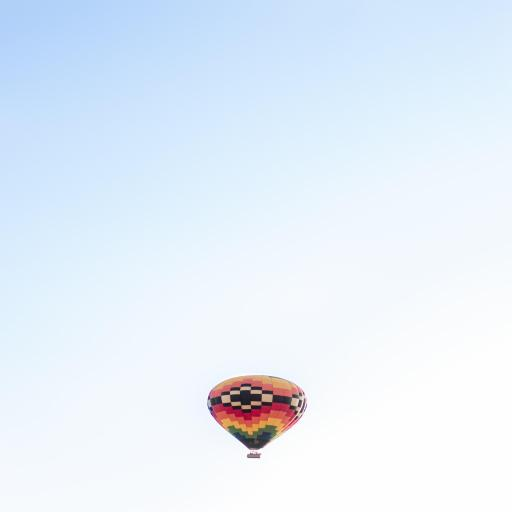hot air ballon: (203, 371, 311, 460)
